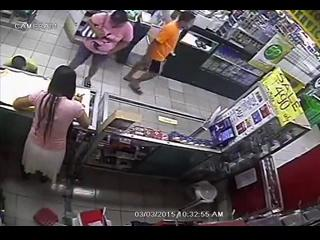Normal: (12, 65, 92, 192), (123, 11, 197, 93), (68, 10, 134, 88)
